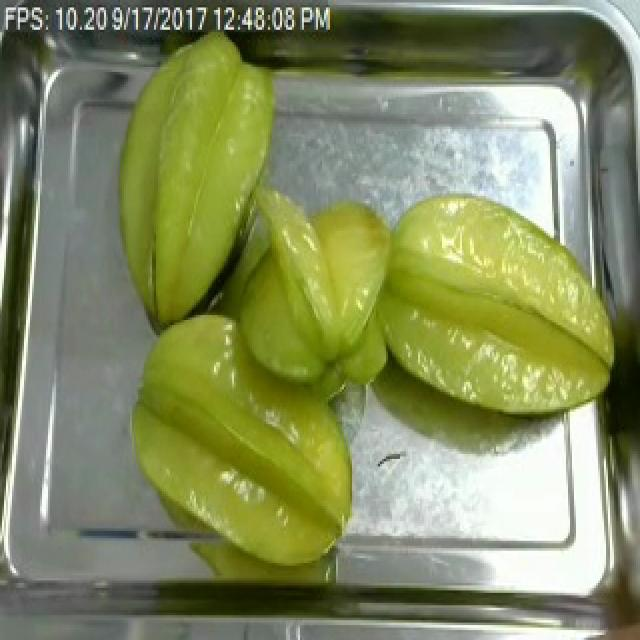fruit: (116, 300, 366, 578), (362, 176, 630, 424), (218, 176, 476, 409), (102, 20, 288, 337)
